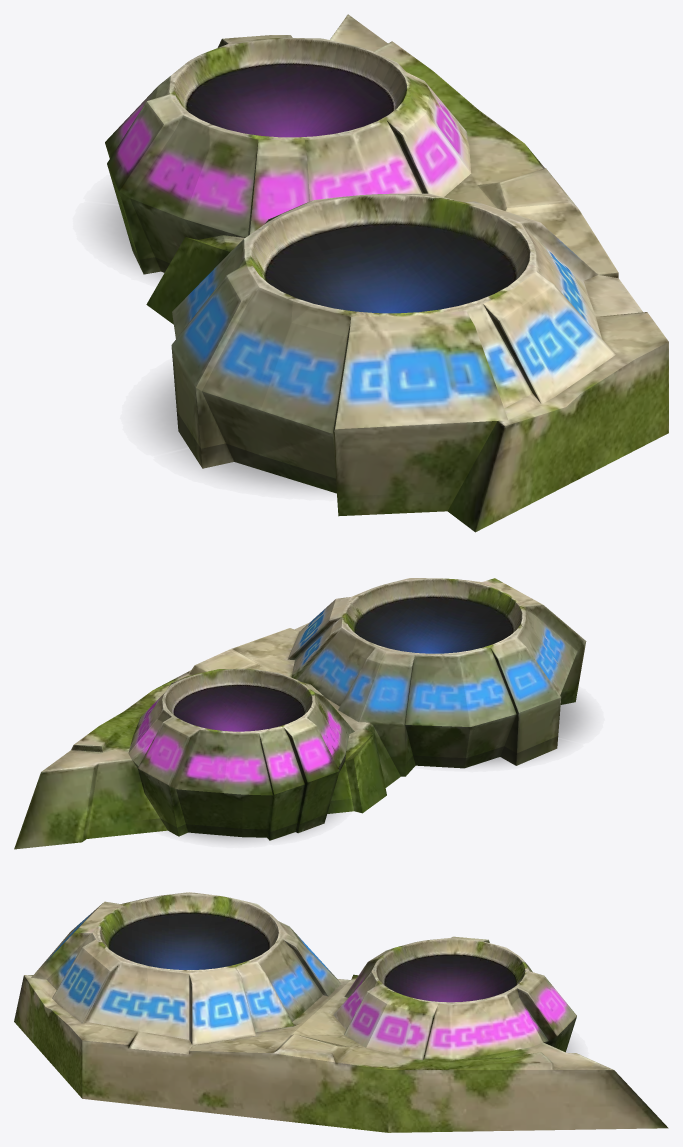
File: grave_far.glb
The picture shows the model from 3 angles, top to bottom: view 1: azimuth 30°, elevation 25°; view 2: azimuth 150°, elevation 25°; view 3: azimuth 270°, elevation 25°; orthographic projection. The views are drawn at different scales.
Visible parts, largest first — view 1: base_0_794d, surface_0_7941; view 2: base_0_794d, surface_0_7941; view 3: base_0_794d.
Part boxes in pixels (left/top/right/bottom): base_0_794d: left=105, top=14, right=668, bottom=532; surface_0_7941: left=100, top=194, right=335, bottom=489; base_0_794d: left=14, top=578, right=586, bottom=849; surface_0_7941: left=147, top=691, right=586, bottom=840; base_0_794d: left=14, top=892, right=668, bottom=1132.
Bounding box in the file's own units: 9.73 × 2.78 × 15.62.
2 materials, 2 textured.
